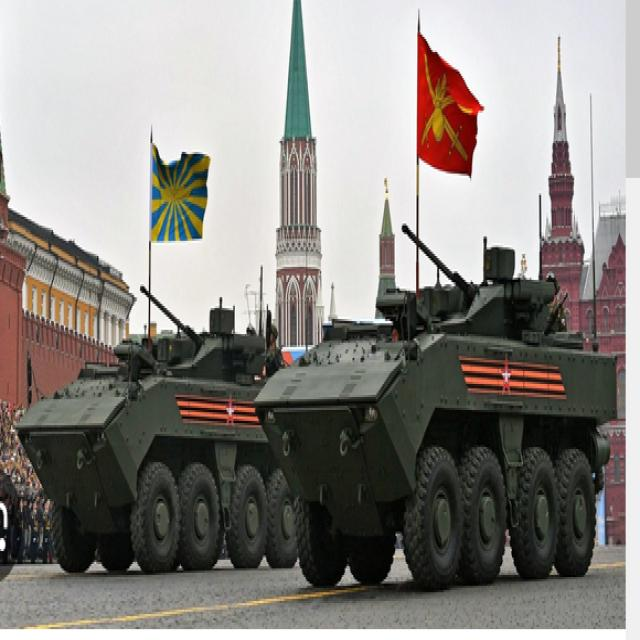MIL_APC: (268, 267, 620, 603), (11, 312, 300, 588)
